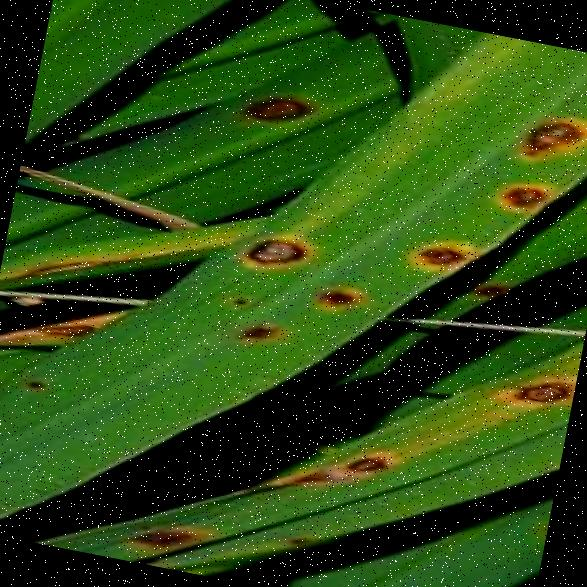Brown_Spot: (501, 84, 587, 183), (221, 70, 329, 141), (480, 150, 570, 232), (480, 348, 576, 424), (224, 216, 325, 288), (392, 215, 490, 288), (111, 501, 218, 566), (294, 266, 380, 326), (330, 438, 398, 488), (228, 304, 288, 357), (14, 368, 54, 398), (279, 524, 317, 552), (219, 282, 254, 311)
